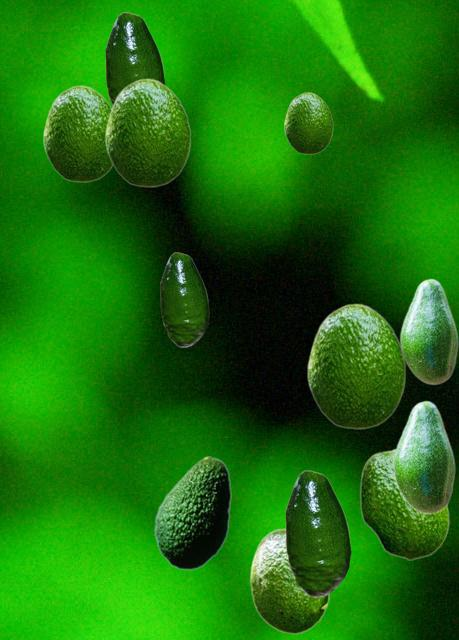avocado: (307, 303, 405, 428), (359, 448, 448, 559), (105, 78, 190, 186), (154, 456, 230, 569), (249, 528, 329, 633), (285, 470, 350, 596), (392, 400, 454, 513), (43, 85, 112, 181), (399, 278, 457, 384), (105, 12, 164, 103), (160, 252, 208, 346), (284, 92, 332, 153)
